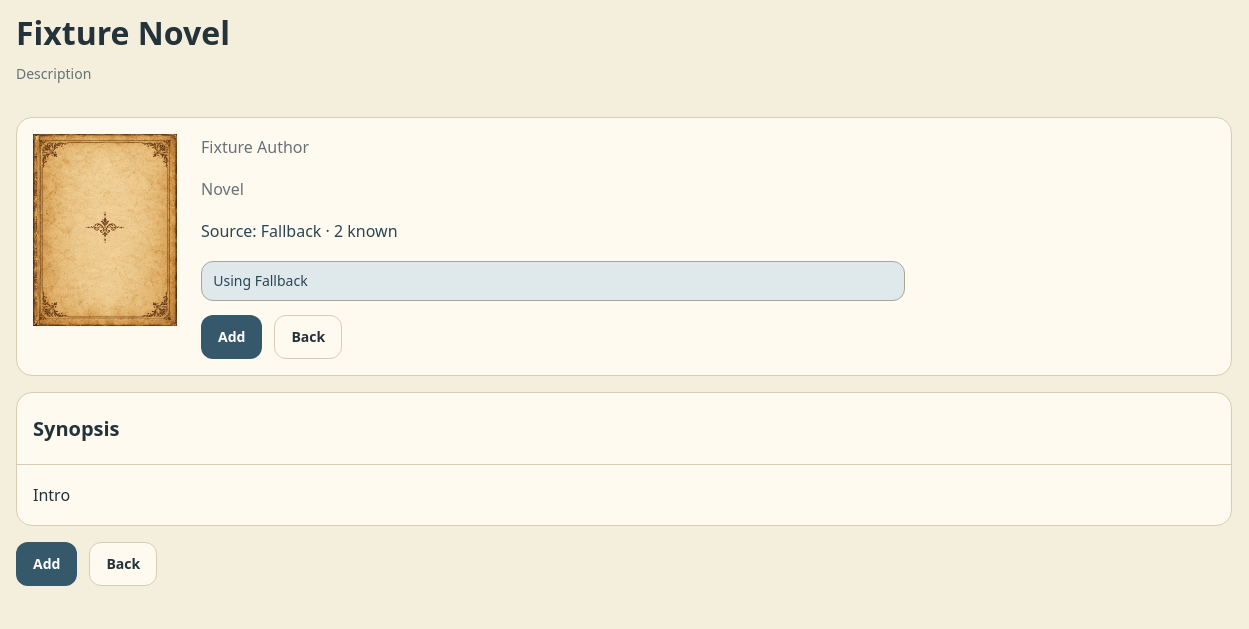
Scenario: CandidateBookDetailView › keeps a commit failure visible on the verified detail
Click the button "Add" below "Using Fallback" at (232, 337), box [201,315,262,359]
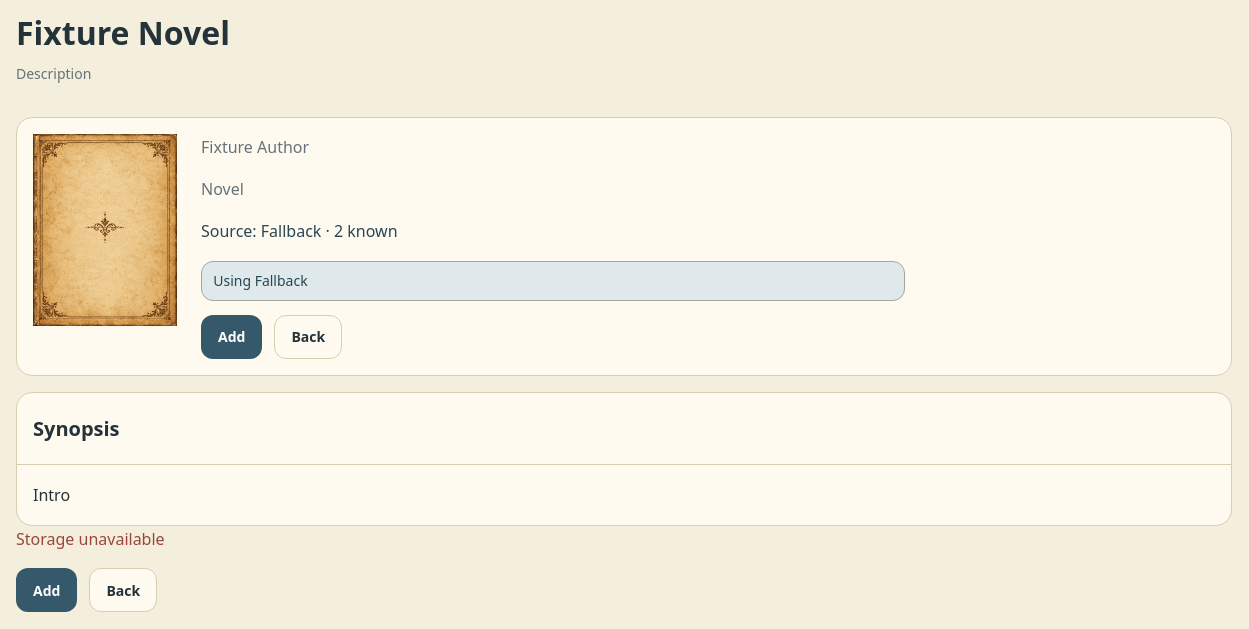
Expected: the text "Synopsis" is shown, [33,415,120,442]
Expected: the text "Storage unavailable" is shown, [16,528,165,550]
